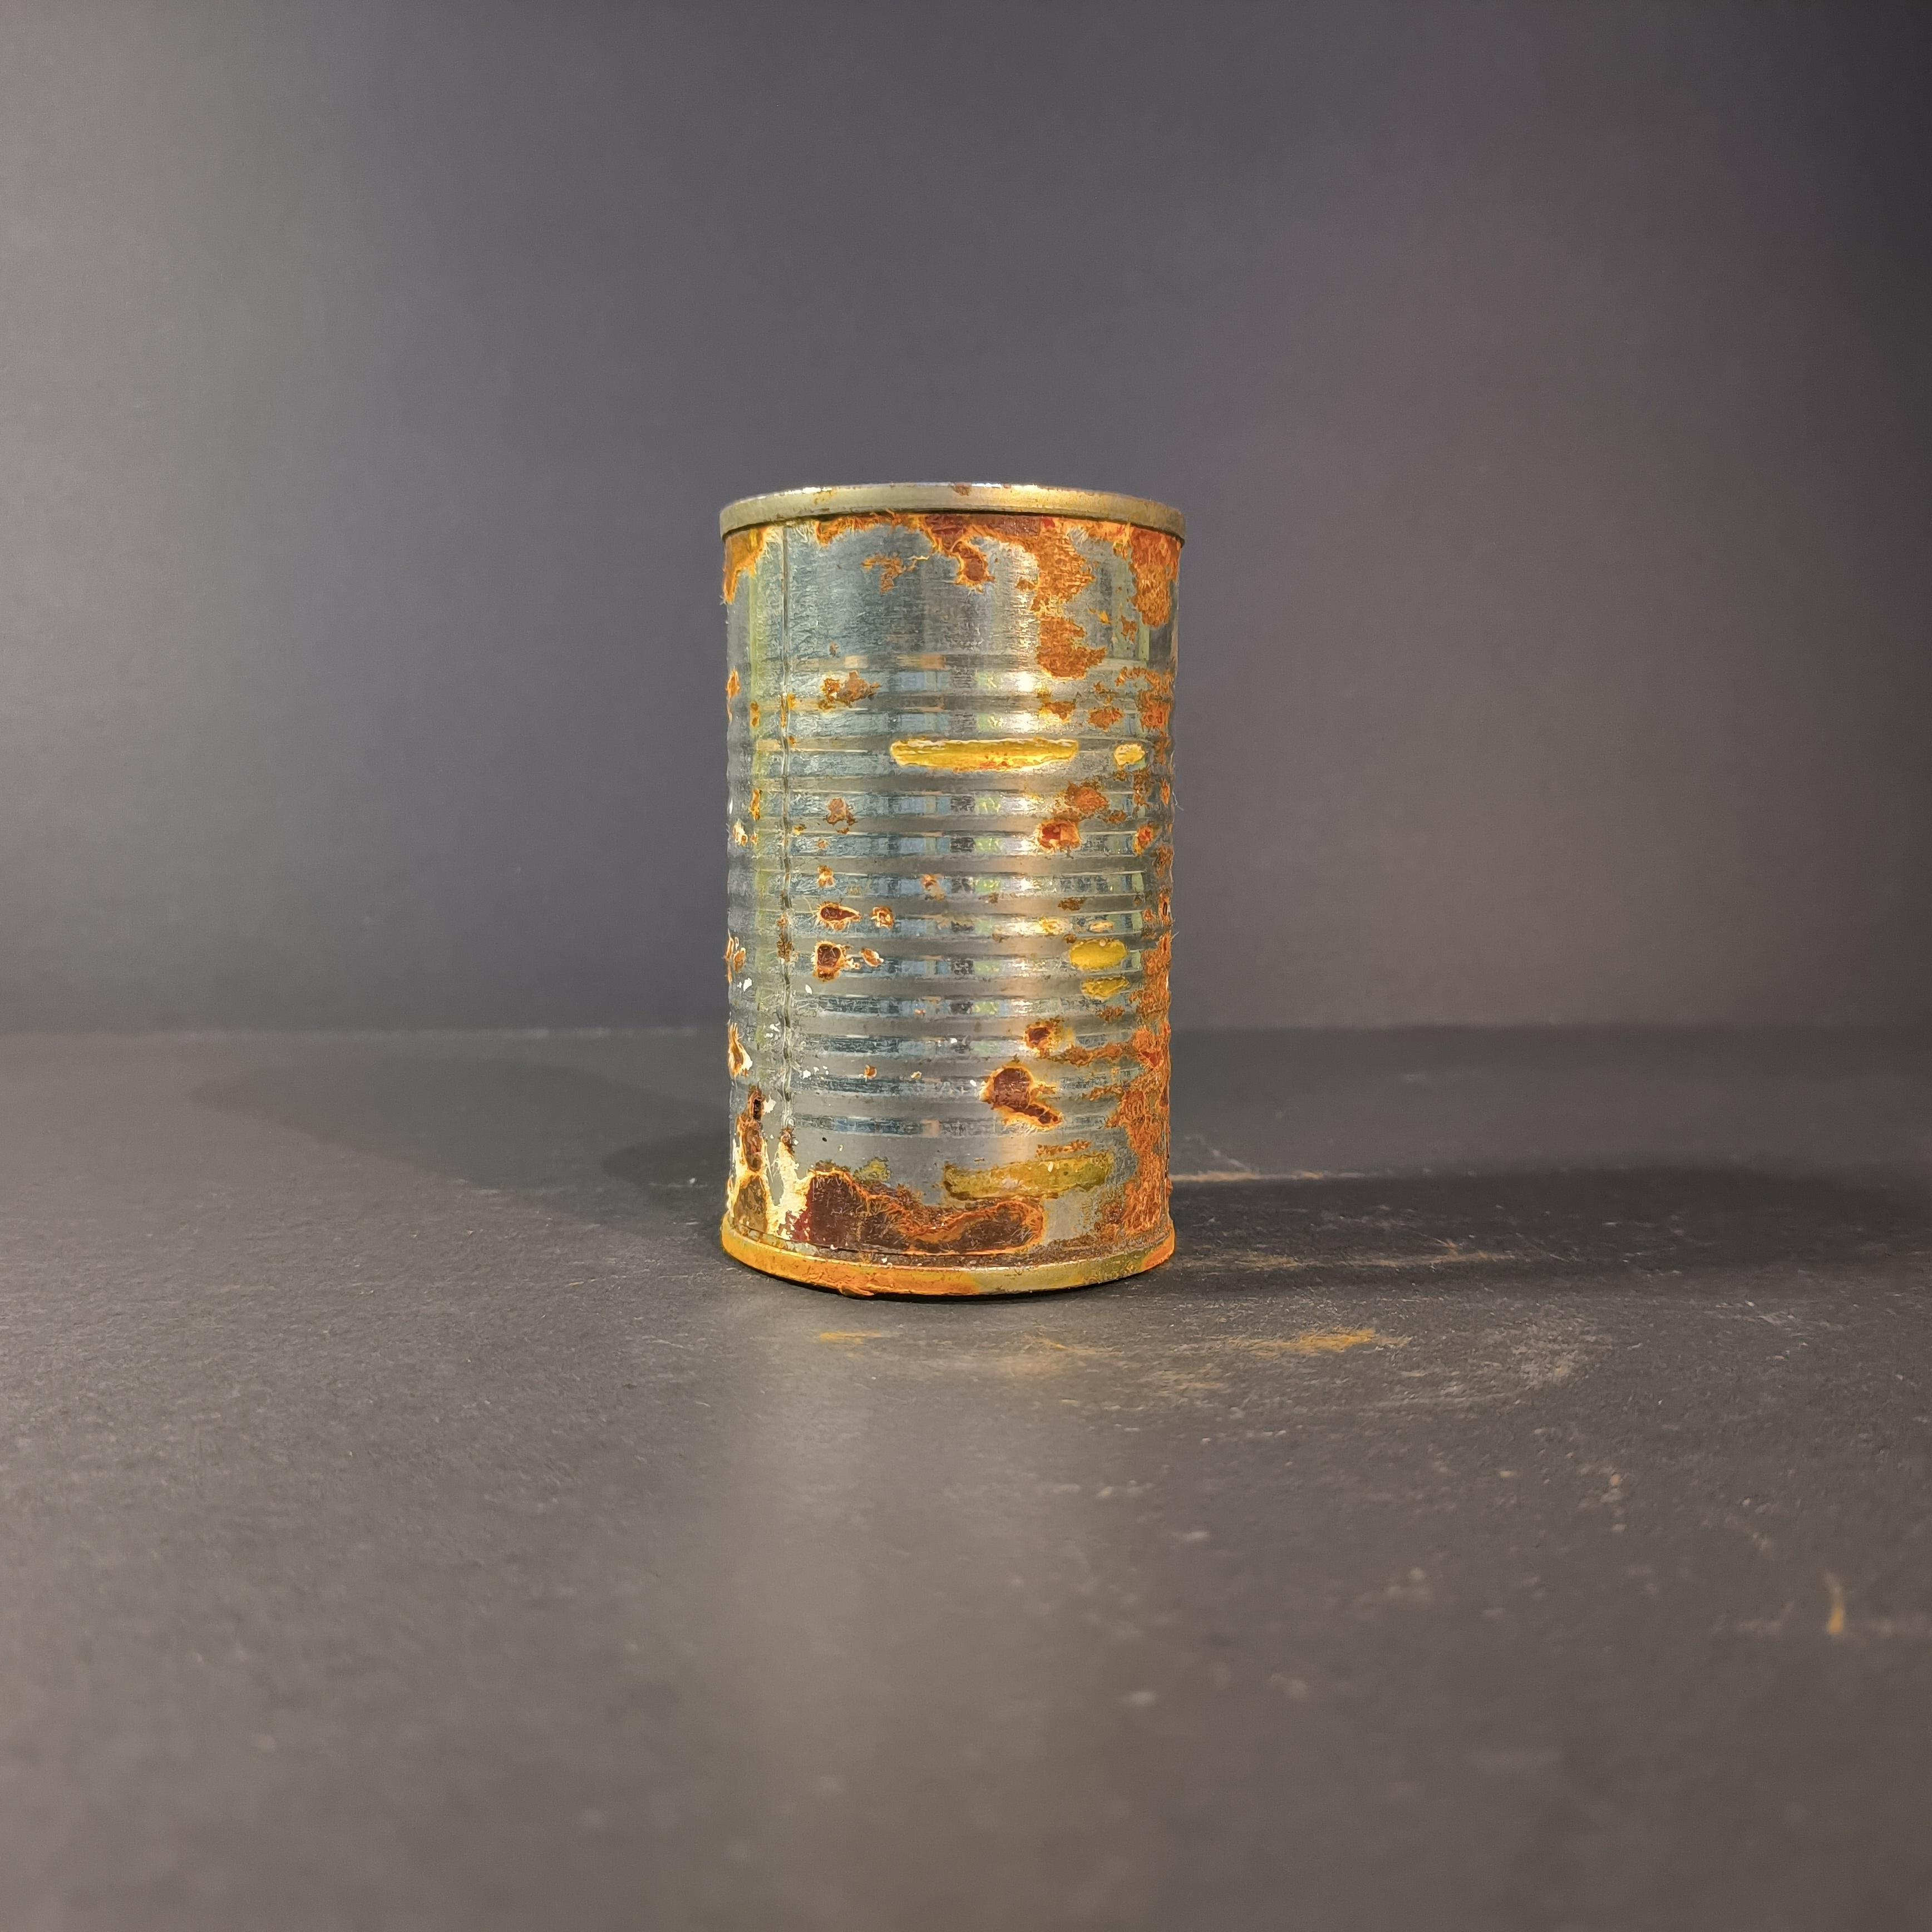Rusted: (709, 471, 1187, 1302)
